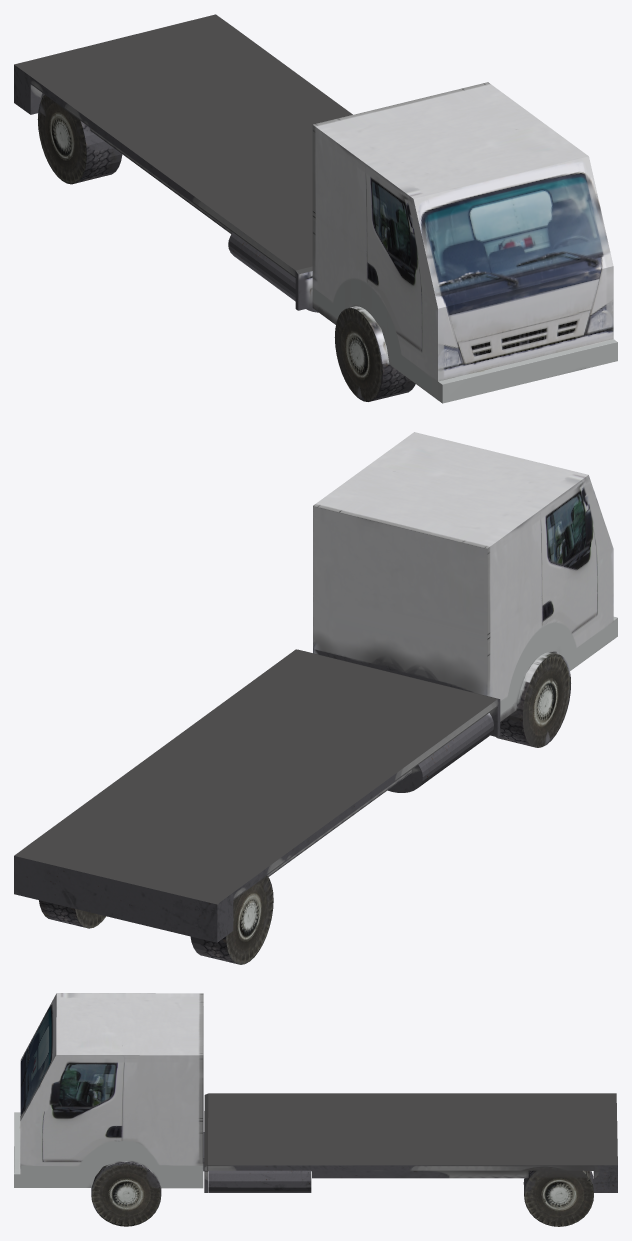
File: truck.glb
3 renders of one model, top to bottom at view 1: azimuth 30°, elevation 25°; view 2: azimuth 150°, elevation 25°; view 3: azimuth 270°, elevation 25°, orthographic. The views are drawn at different scales.
Parts seen in each view (by area): view 1: Cube.601; view 2: Cube.601; view 3: Cube.601.
Part boxes in pixels (bbox=[...]): Cube.601: bbox=[14, 14, 617, 403]; Cube.601: bbox=[14, 432, 617, 964]; Cube.601: bbox=[14, 993, 617, 1226].
Size of the model in its own units: 8.43 by 9.27 by 29.93.
Materials: 1 (1 with a texture image).
